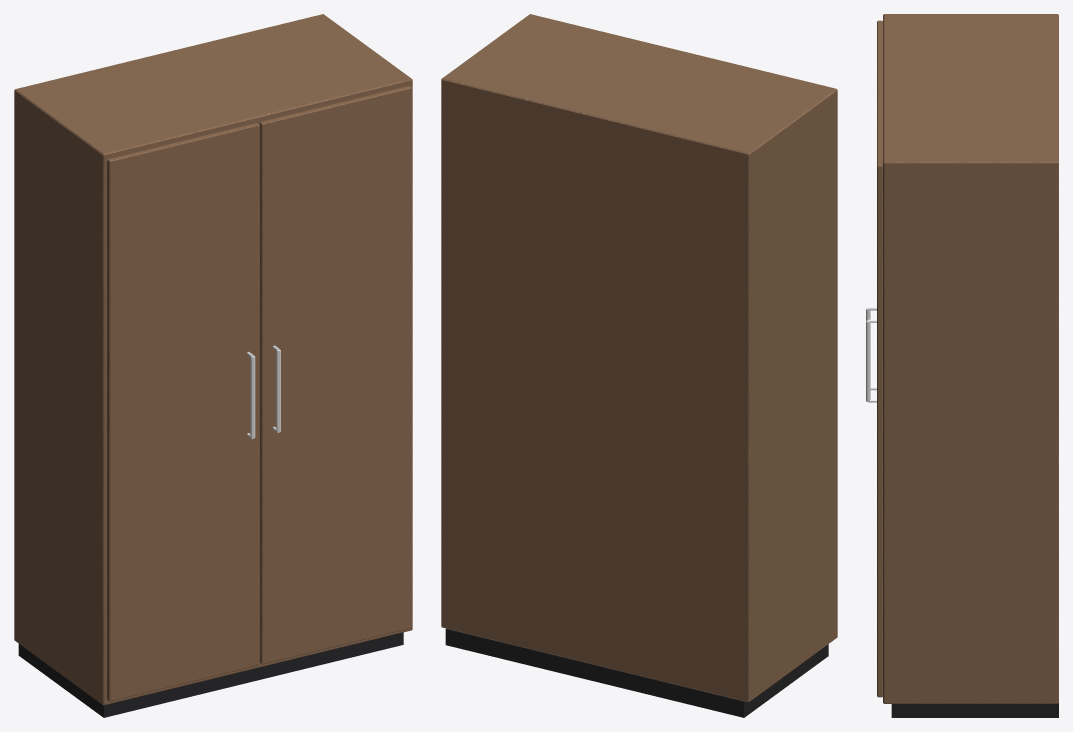
The model's file is wardrobe.glb.
3 renders of one model, left to right at view 1: azimuth 30°, elevation 25°; view 2: azimuth 150°, elevation 25°; view 3: azimuth 270°, elevation 25°, orthographic.
Parts seen in each view (by area): view 1: wardrobe; view 2: wardrobe; view 3: wardrobe.
Part boxes in pixels (x1,y1,x2,y2): wardrobe: (14, 14, 412, 717); wardrobe: (441, 14, 837, 717); wardrobe: (866, 14, 1058, 717).
Size of the model in its own units: 1.2 by 2.1 by 0.658.
Materials: 3 (1 with a texture image).
